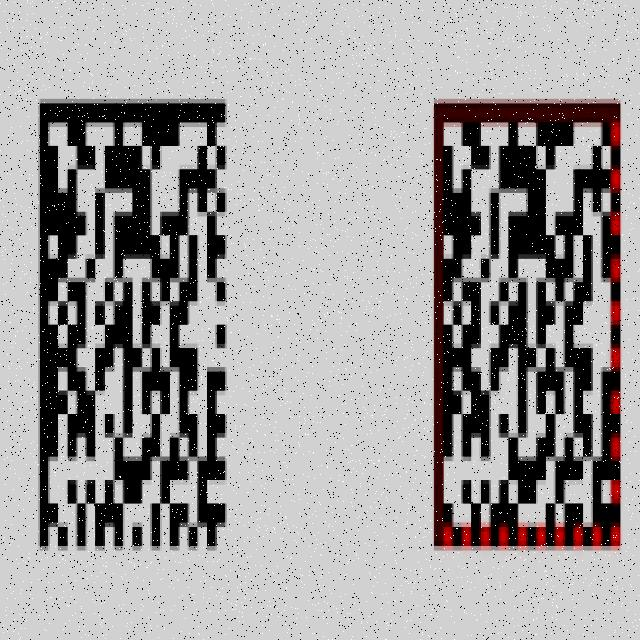datamatrix: (32, 75, 240, 574)
